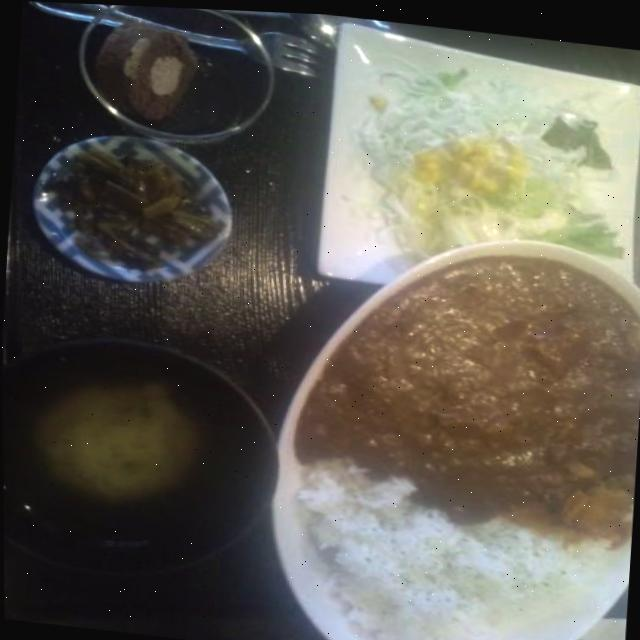汤锅炖物: (2, 346, 260, 582)
牛肉菜式: (283, 222, 640, 640)
蔬菜料理: (335, 34, 640, 288)
